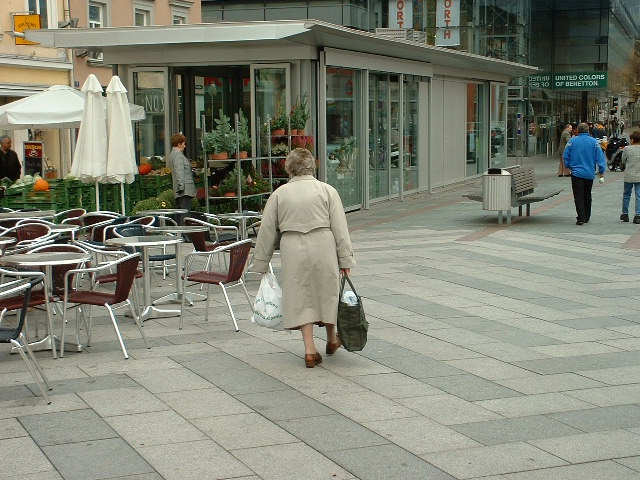person: (237, 144, 367, 369), (560, 118, 604, 222)
